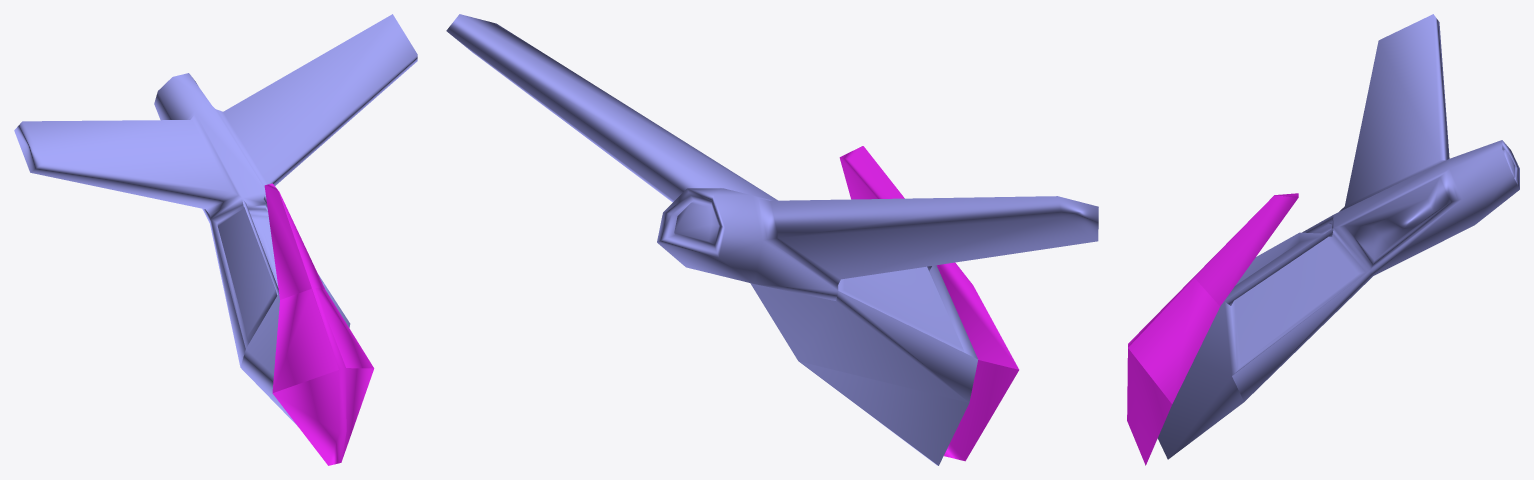
File: space_ship_title.fbx
3 renders of one model, left to right at view 1: azimuth 30°, elevation 25°; view 2: azimuth 150°, elevation 25°; view 3: azimuth 270°, elevation 25°, orthographic. The views are drawn at different scales.
Visible parts, largest first — view 1: space_ship, cockpit; view 2: space_ship, cockpit; view 3: space_ship, cockpit.
Boxes of the visible parts, x1,y1,x2,y2 form: space_ship: (14,14,417,426); cockpit: (264,183,374,465); space_ship: (446,14,1098,465); cockpit: (839,146,1019,461); space_ship: (1157,14,1519,459); cockpit: (1127,193,1298,465).
Size of the model in its own units: 230 by 181 by 177.
